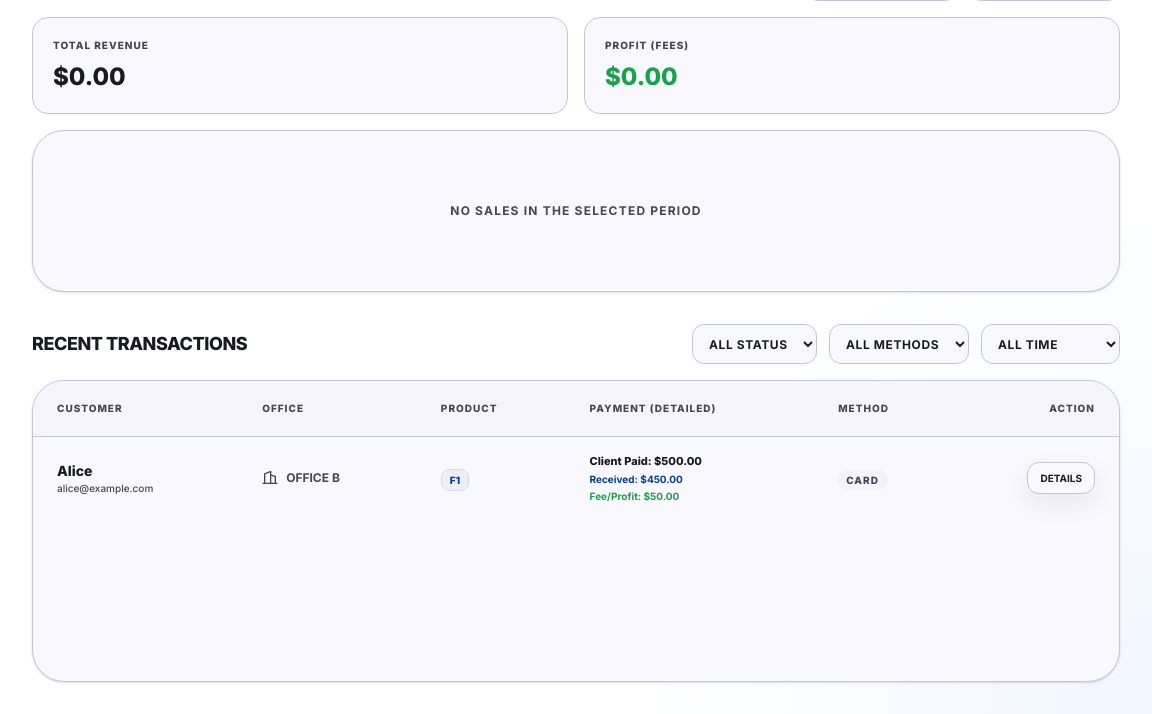
Test: FinanceAnalyticsPage › opens transaction details modal
(page scrolled)
What coordinates should you click on to do the following:
click the button "Details"
I would click on:
 (1061, 478)
Its box is [1027, 462, 1095, 494].
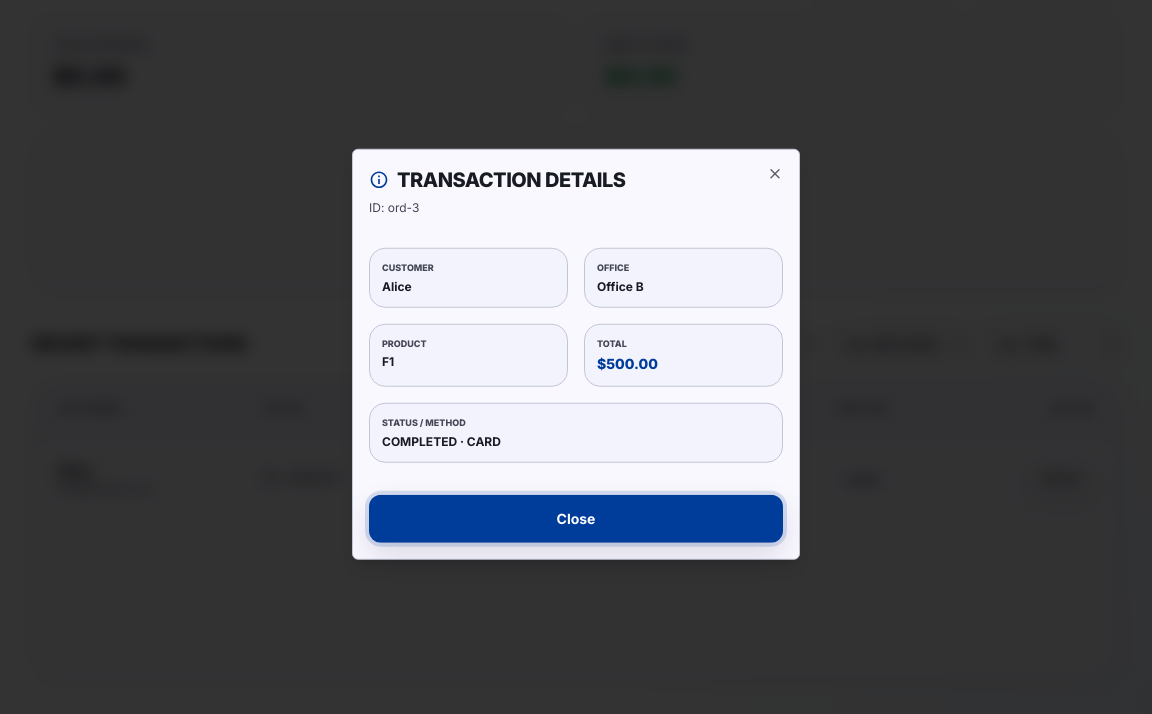
Result: the heading "Transaction Details" is shown at [369, 168, 626, 192]
Result: the text "ID: ord-3" is shown at [369, 200, 419, 215]
